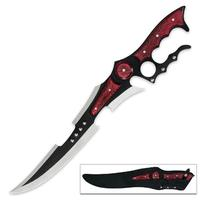knife: (7, 5, 186, 198), (79, 163, 200, 193)
